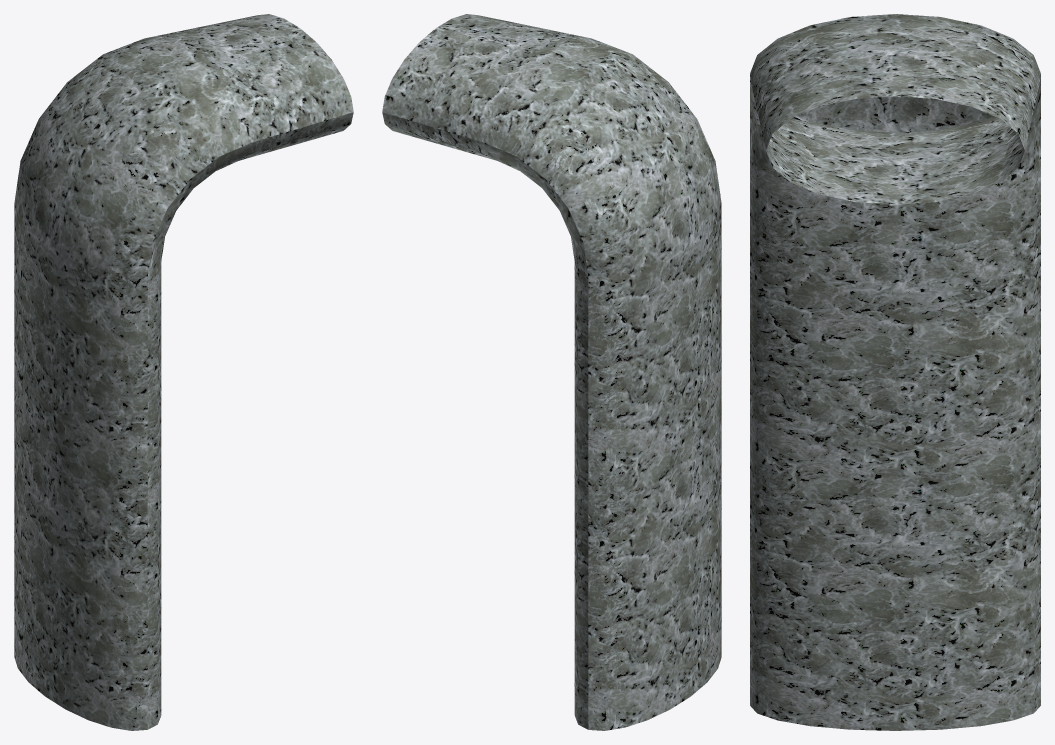
The model's file is SM_Waterfall_01.fbx.
3 renders of one model, left to right at view 1: azimuth 30°, elevation 25°; view 2: azimuth 150°, elevation 25°; view 3: azimuth 270°, elevation 25°, orthographic. The views are drawn at different scales.
Visible parts, largest first — view 1: SM_Waterfall_01_LOD0; view 2: SM_Waterfall_01_LOD0; view 3: SM_Waterfall_01_LOD0.
Boxes of the visible parts, left/top/right/bottom form: SM_Waterfall_01_LOD0: left=14, top=14, right=353, bottom=730; SM_Waterfall_01_LOD0: left=382, top=14, right=721, bottom=730; SM_Waterfall_01_LOD0: left=750, top=14, right=1040, bottom=730.
Bounding box in the file's own units: 732 × 595 × 1659.
